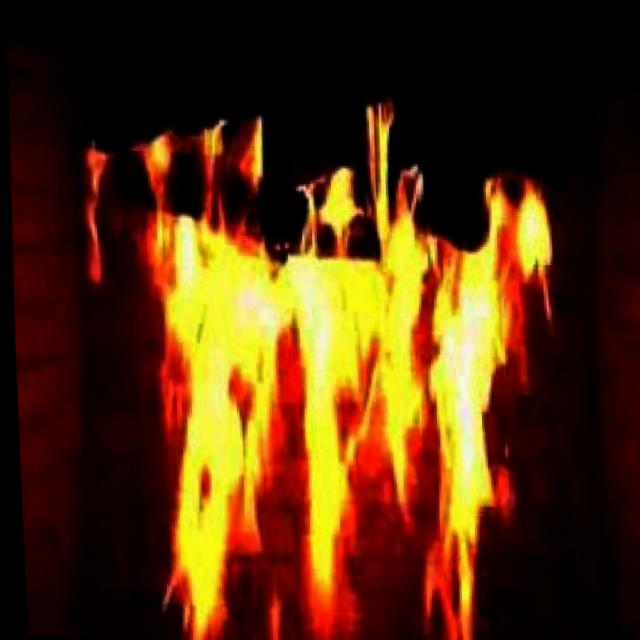Fire: (51, 73, 586, 640)
